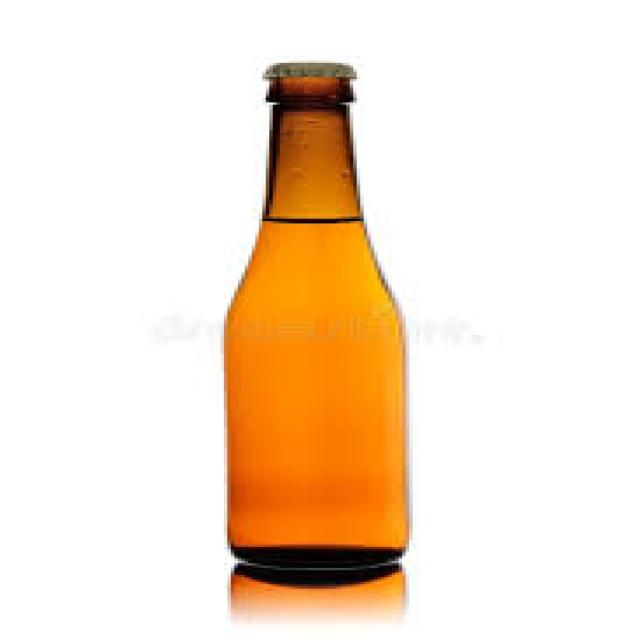glass: (220, 70, 406, 575)
metal: (262, 60, 350, 77)
